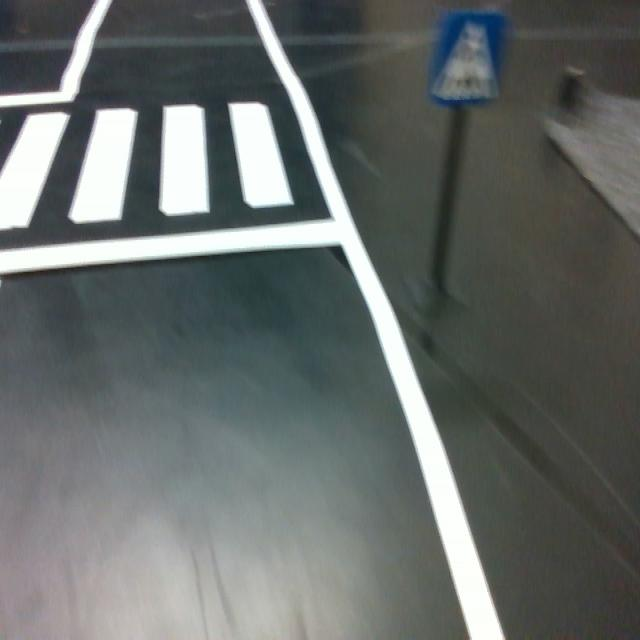crosswalk-sign: (426, 8, 510, 108)
